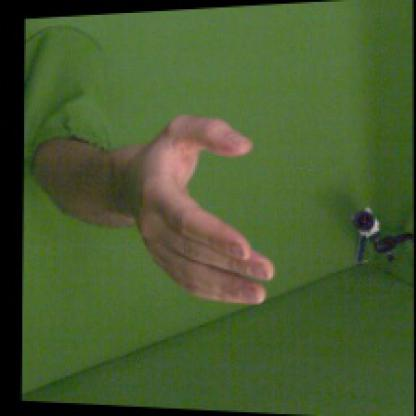Hand: (130, 113, 274, 306)
